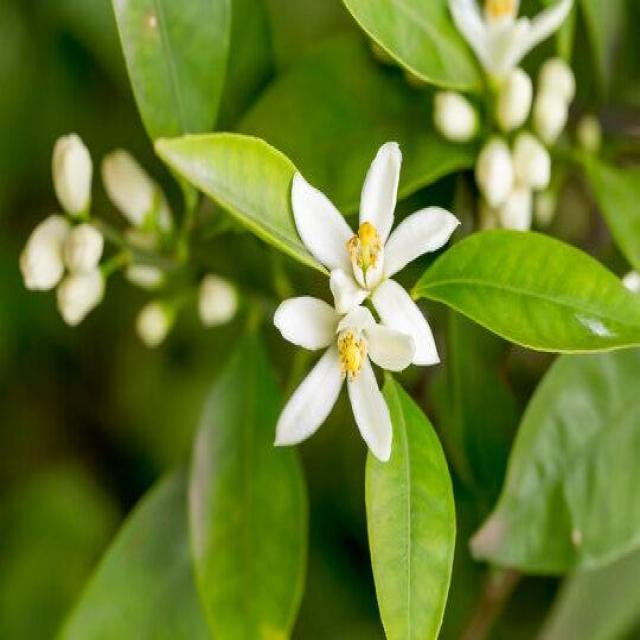Bunga: (290, 139, 459, 368), (275, 268, 418, 466), (448, 0, 575, 89), (100, 146, 158, 224), (22, 216, 74, 294), (56, 263, 106, 327), (54, 133, 92, 217), (478, 136, 520, 212), (540, 59, 582, 120), (60, 222, 104, 276), (513, 135, 556, 190), (435, 88, 478, 140), (530, 90, 569, 146), (498, 68, 532, 130), (499, 181, 538, 233), (200, 274, 234, 326), (129, 260, 167, 294), (140, 302, 164, 350), (480, 202, 488, 232)
